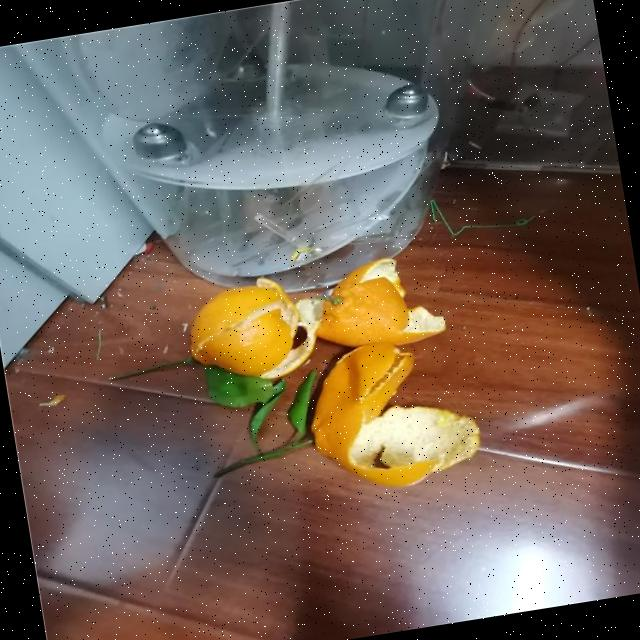orange-peel: (290, 316, 485, 530), (292, 228, 462, 366), (175, 257, 318, 393)
